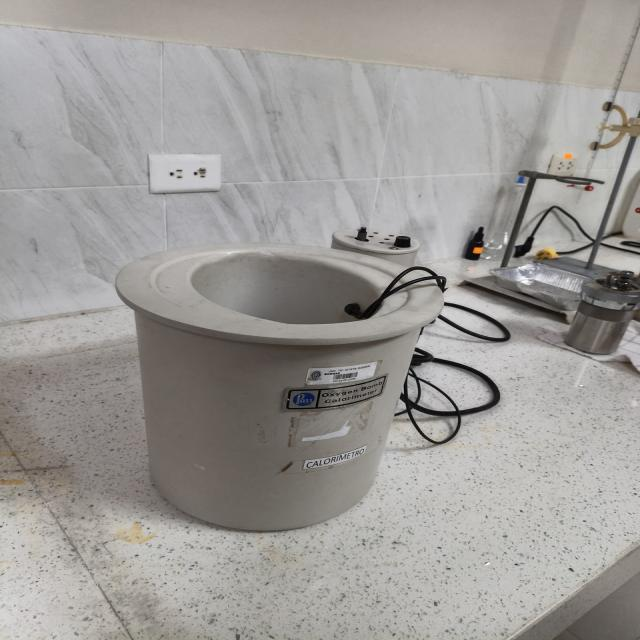Bomba Calorimetrica de Oxigeno: (117, 221, 444, 526)
